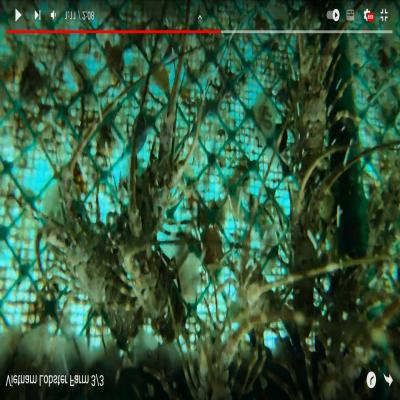lobster: (127, 202, 185, 335), (59, 210, 109, 334), (287, 185, 324, 330), (295, 43, 332, 174)
